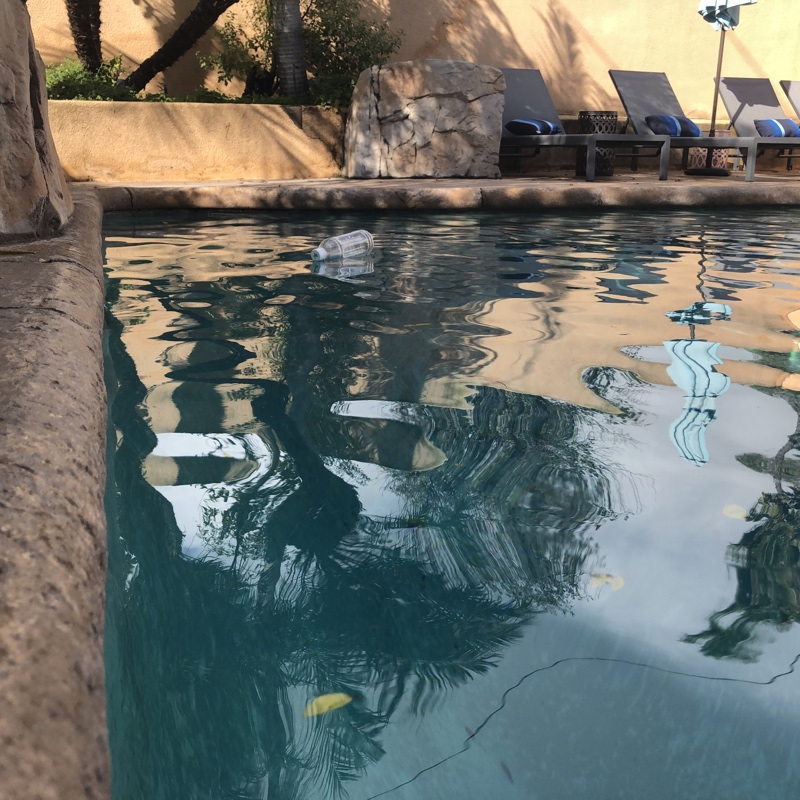Plastic Bottle: (307, 227, 380, 263)
